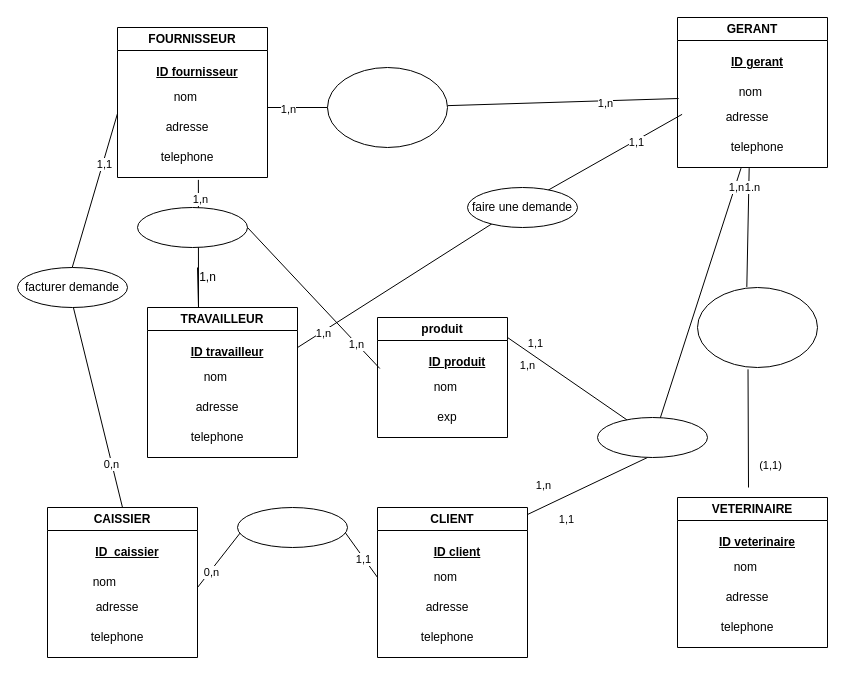
Some shapes in this 855 by 675 pixel diagram are drawn without their labels. Each missing label, with the centre of its shape:
"appeler" belongs at point (757, 327).
"commander" belongs at point (652, 437).
"demande d'approvisionnement" belongs at point (387, 107).
"livrer" belongs at point (192, 227).
"payer" belongs at point (292, 527).
